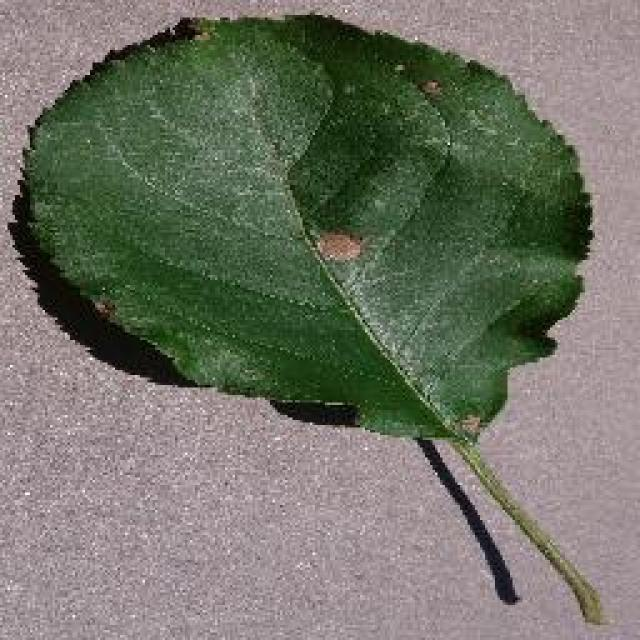apple black rot: (7, 8, 605, 622)
